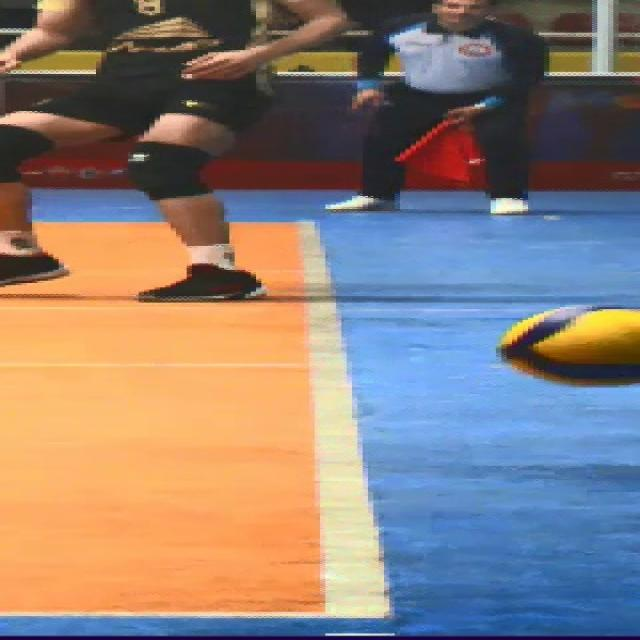Volleyball: (504, 305, 640, 386)
